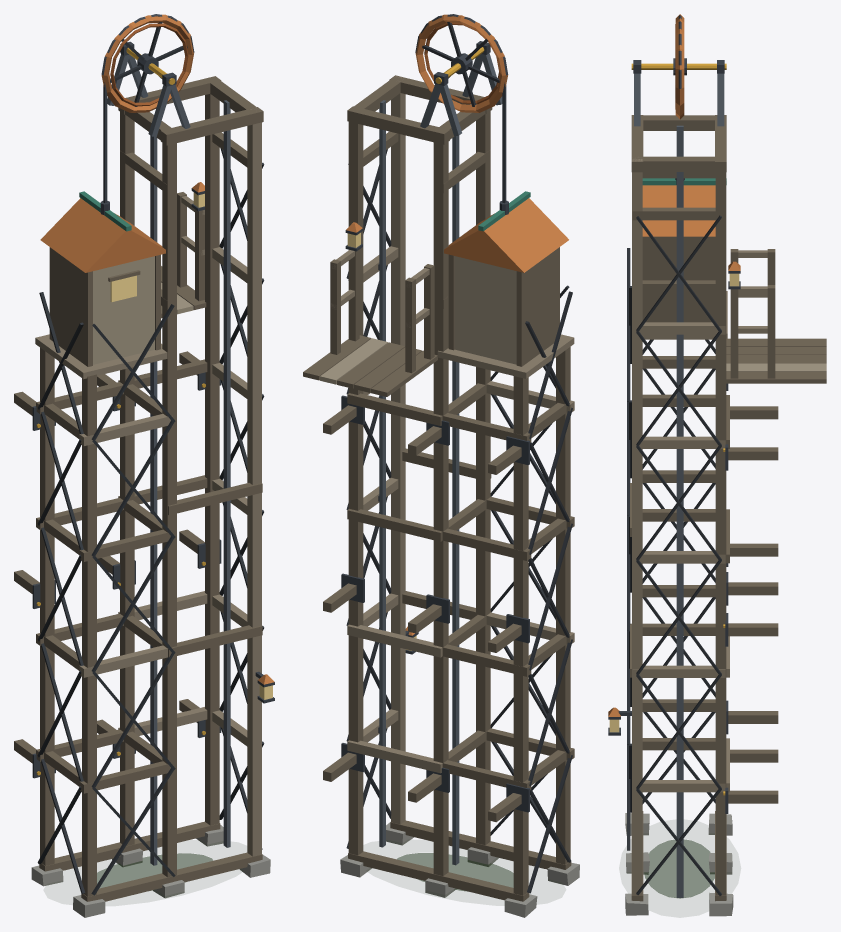
File: lift_tower.glb
3 views of the same model, side by side, from view 1: azimuth 30°, elevation 25°; view 2: azimuth 150°, elevation 25°; view 3: azimuth 270°, elevation 25° (orthographic).
Parts seen in each view (by area): view 1: lift_tower; view 2: lift_tower; view 3: lift_tower.
Part boxes in pixels (x1,y1,x2,y2): lift_tower: (14,14,274,917); lift_tower: (303,14,579,917); lift_tower: (608,14,826,916).
Size of the model in its own units: 2.41 by 9.67 by 2.25.
